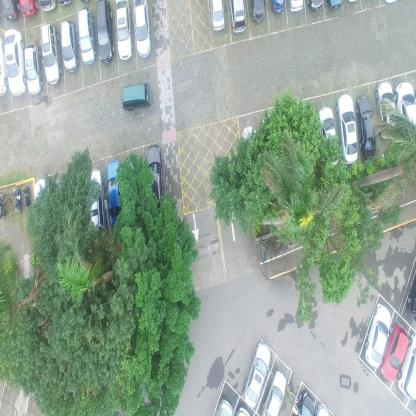car: (243, 341, 271, 410), (364, 302, 392, 369), (379, 323, 410, 382), (334, 94, 357, 165), (4, 28, 27, 98), (39, 20, 62, 83), (393, 81, 416, 142), (316, 105, 338, 168), (355, 95, 374, 160), (144, 140, 162, 208), (375, 82, 396, 139), (261, 370, 287, 416), (96, 0, 114, 64), (87, 166, 104, 233), (106, 156, 122, 223), (115, 0, 133, 59), (78, 4, 96, 63), (60, 16, 79, 71), (133, 0, 151, 58), (23, 43, 42, 96), (122, 83, 152, 112), (228, 0, 247, 34), (293, 389, 315, 415), (209, 0, 226, 31), (407, 272, 416, 320), (250, 0, 266, 25), (2, 0, 21, 20), (19, 0, 39, 19), (213, 397, 234, 415), (287, 0, 304, 15), (270, 0, 286, 14), (315, 400, 329, 416), (306, 0, 324, 12), (325, 0, 343, 12)
